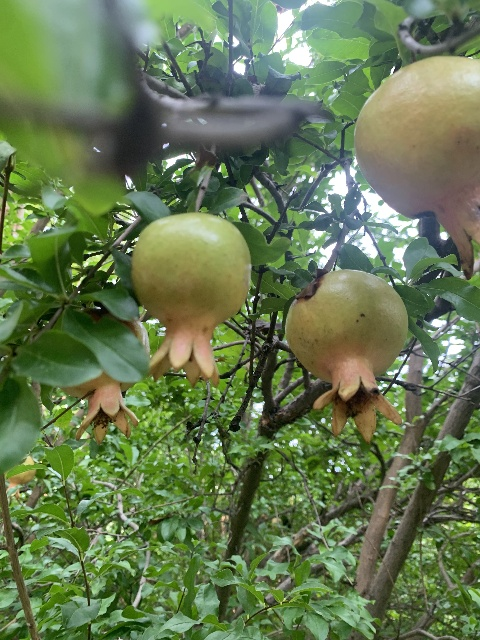mid-growth: (353, 55, 480, 274), (285, 269, 409, 445), (129, 211, 252, 387), (57, 311, 147, 444), (3, 455, 36, 500)
